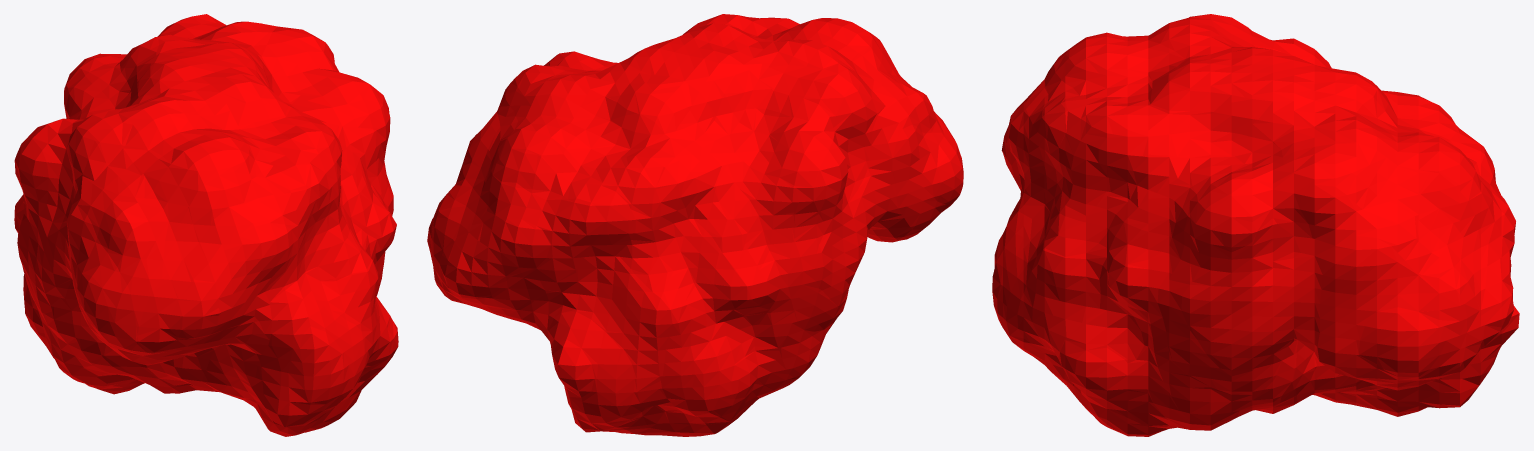
Rendered from bioA_coarse.dae.
3 renders of one model, left to right at view 1: azimuth 30°, elevation 25°; view 2: azimuth 150°, elevation 25°; view 3: azimuth 270°, elevation 25°, orthographic. The views are drawn at different scales.
Parts seen in each view (by area): view 1: bioA; view 2: bioA; view 3: bioA.
Boxes of the visible parts, x1,y1,x2,y2 form: bioA: (14, 14, 398, 436); bioA: (427, 14, 963, 436); bioA: (992, 14, 1519, 436).
Bounding box in the file's own units: 71.93 × 61.53 × 81.93.
